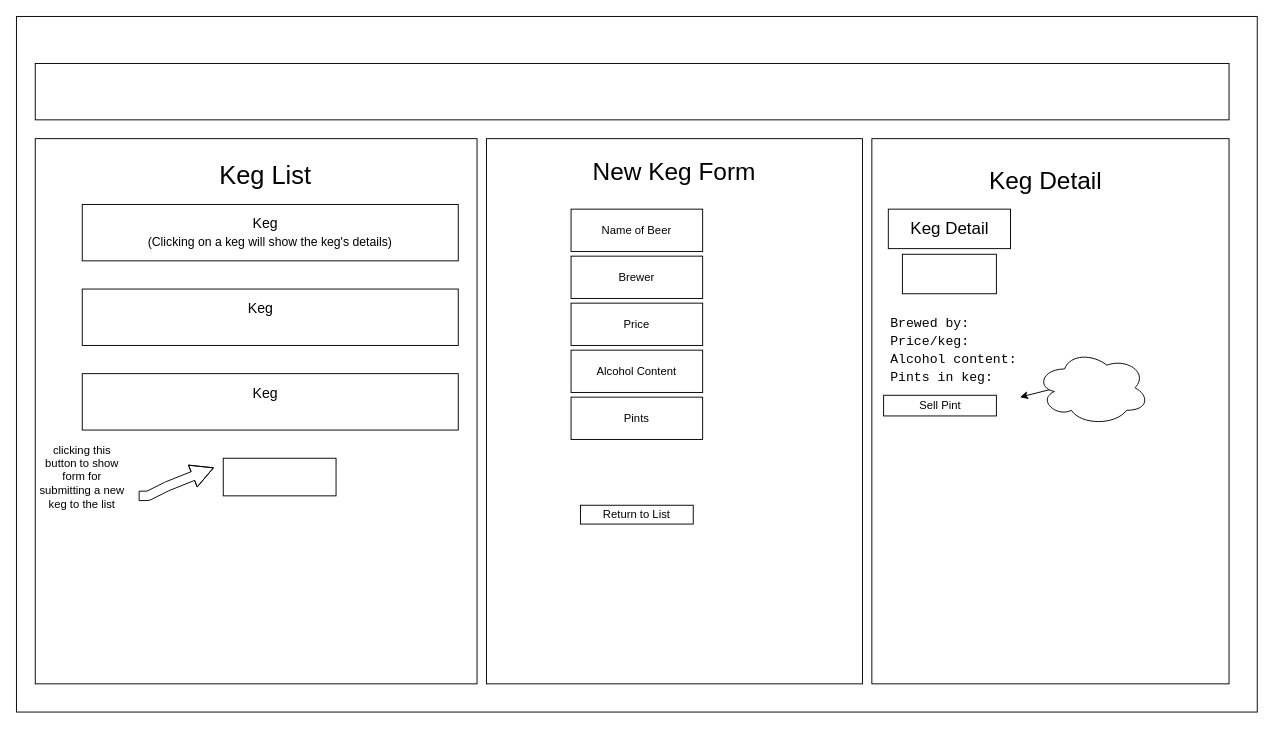
The diagram is 1274 pixels wide and 729 high, and some of its shapes have lost their labels. The shapes that lost their labels are listed below. From the top down, each one's centre as x and y in pixels, then its label:
point (631, 91): Header
point (948, 273): "Beer Name"
point (1092, 387): decrements the pint prop
point (279, 476): Add Keg
